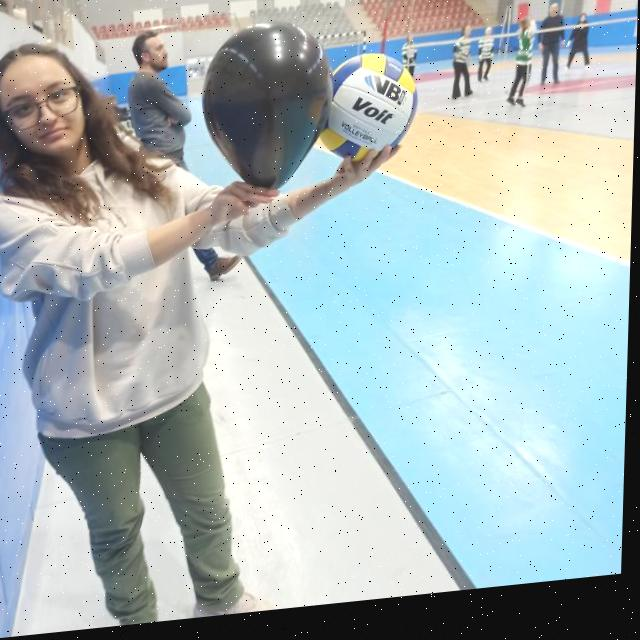balloon: (204, 17, 337, 199)
